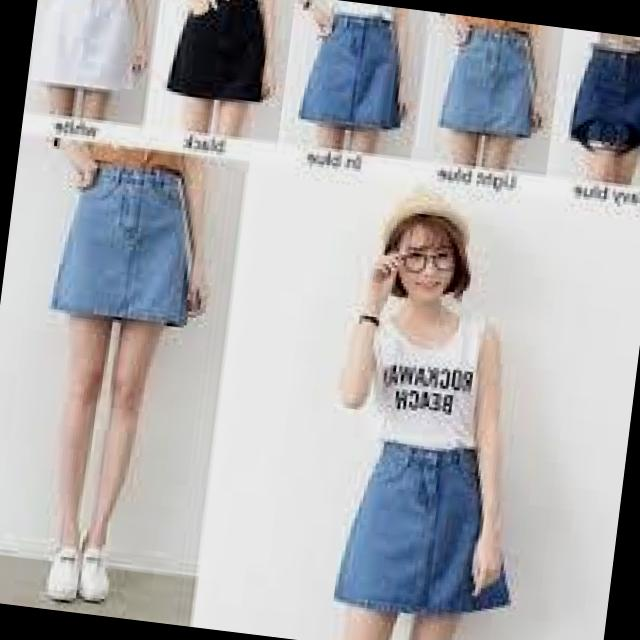skirt: (328, 434, 511, 634), (46, 158, 199, 338), (294, 13, 418, 142), (158, 0, 287, 113), (434, 26, 541, 148), (27, 0, 146, 104), (564, 40, 640, 162)
